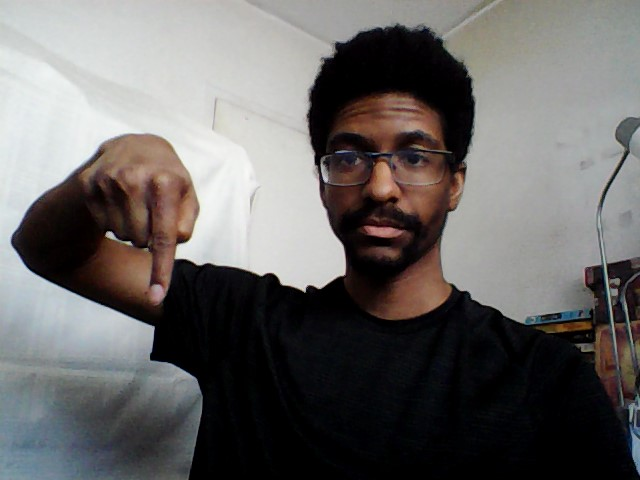q: (74, 129, 206, 311)
